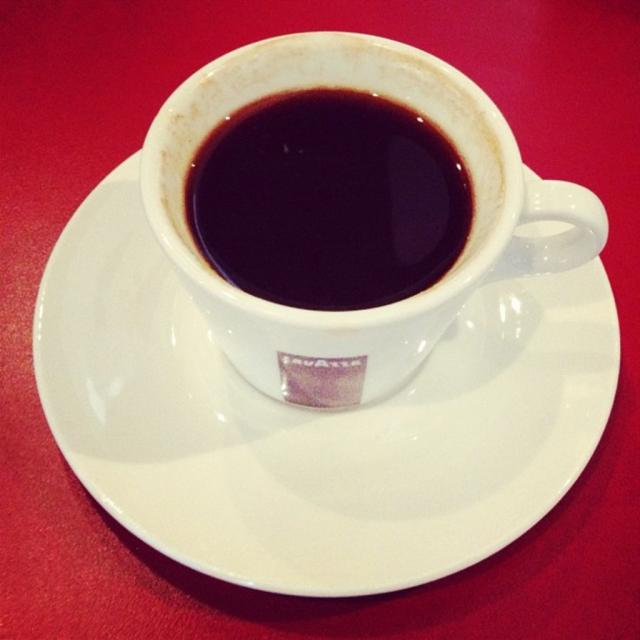Coffee: (117, 26, 590, 396)
Tea: (179, 89, 472, 308)
